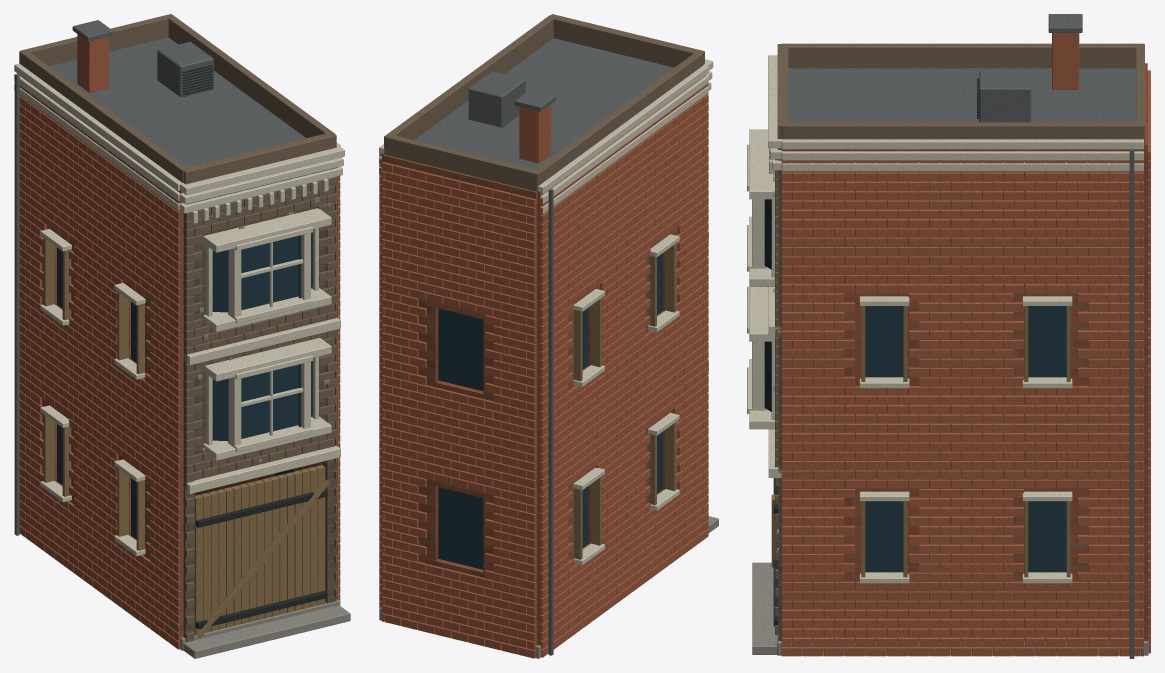
Rendered from VICT21_lod0.glb.
The picture shows the model from 3 angles, left to right: view 1: azimuth 30°, elevation 25°; view 2: azimuth 150°, elevation 25°; view 3: azimuth 270°, elevation 25°; orthographic projection. The views are drawn at different scales.
Visible parts, largest first — view 1: VICT21_LOD0; view 2: VICT21_LOD0; view 3: VICT21_LOD0.
Part boxes in pixels (box(x1,y1,x2,y2)): VICT21_LOD0: box(14, 14, 350, 658); VICT21_LOD0: box(379, 14, 718, 658); VICT21_LOD0: box(747, 14, 1150, 658).
Bounding box in the file's own units: 3.71 × 10.45 × 6.69.
Materials: 15 (13 with a texture image).
